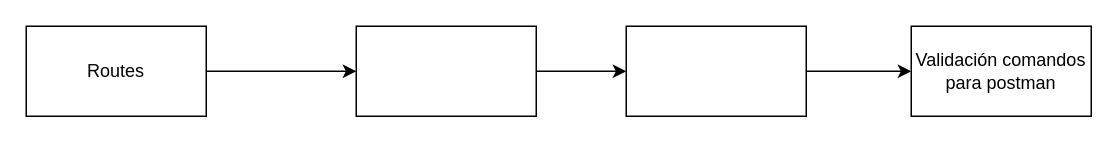
The diagram is 1118 pixels wide and 143 high, and some of its shapes have lost their labels. The shapes that lost their labels are listed below. From the top down, each one's centre as x and y in pixels, then its label:
the point at 445,70: User.js
the point at 715,70: Requerimientos
